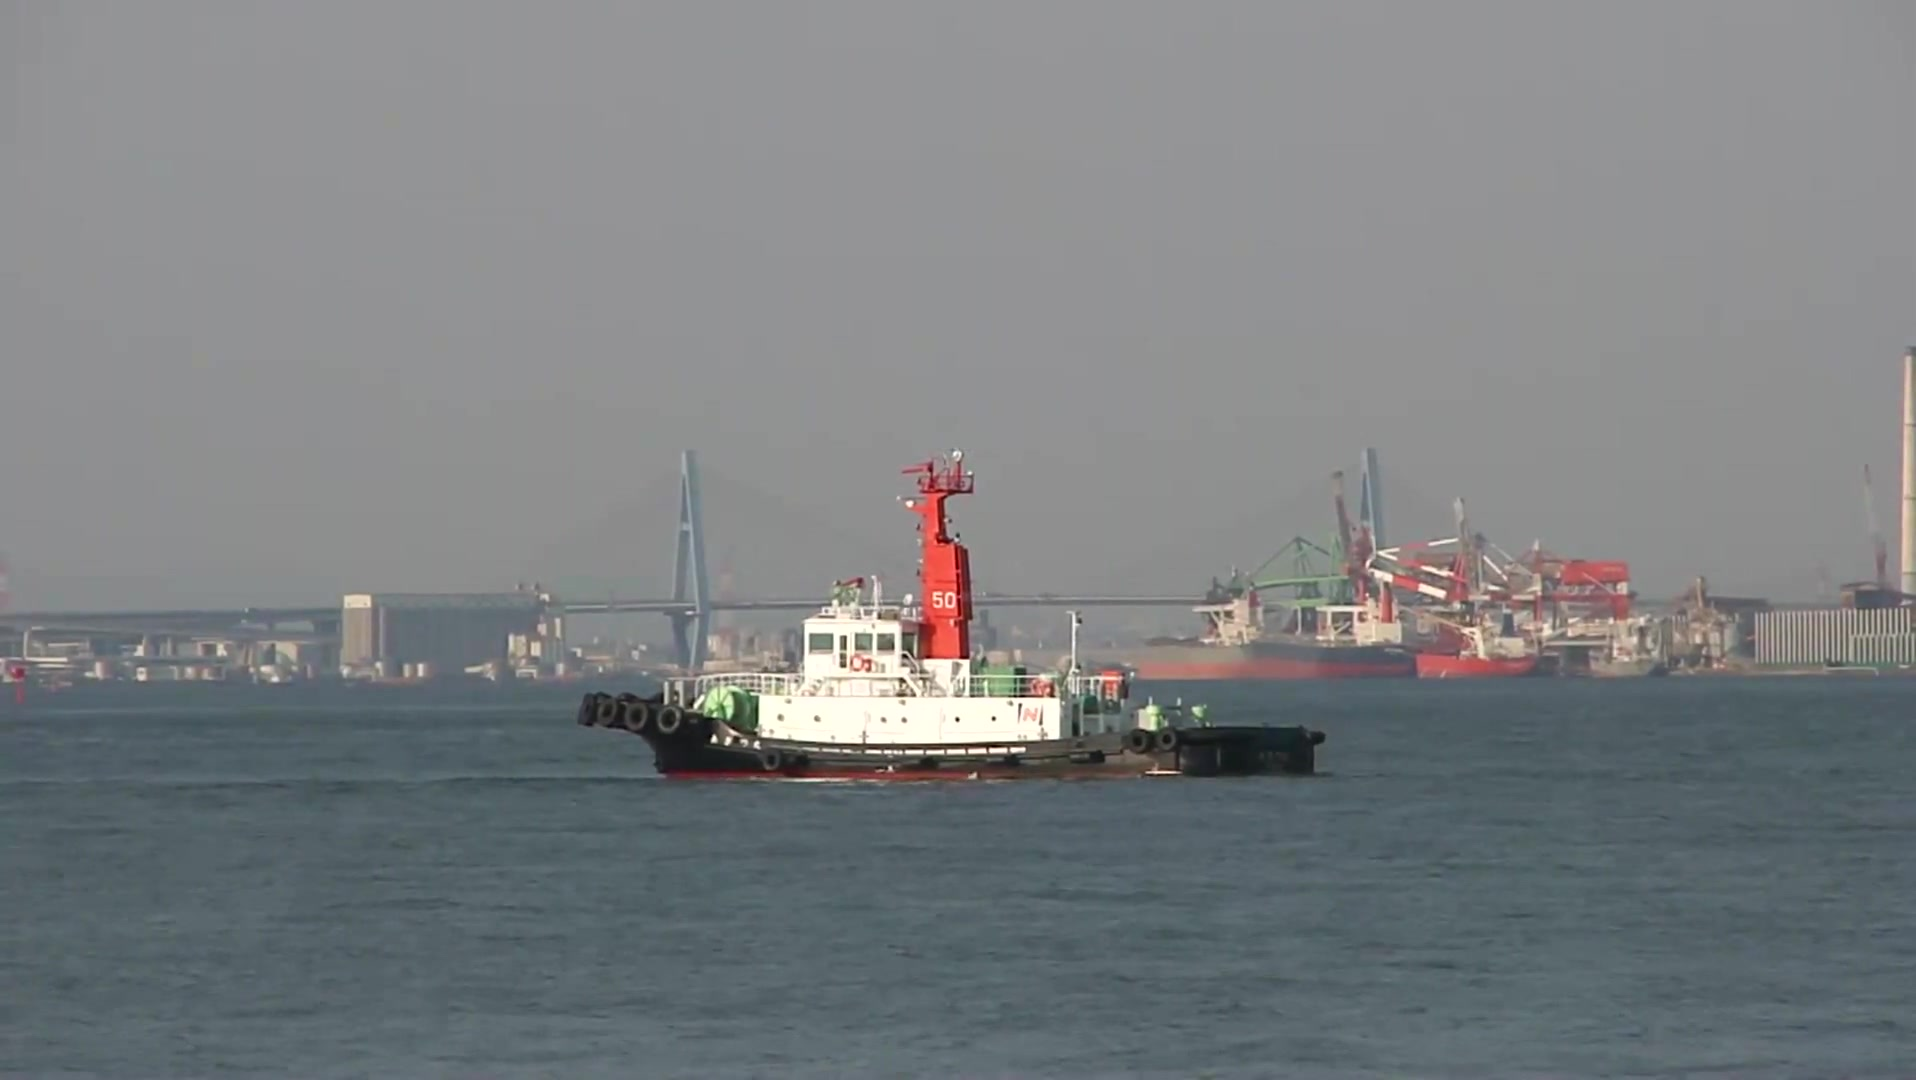boat: (575, 453, 1334, 788), (1201, 449, 1633, 691)
